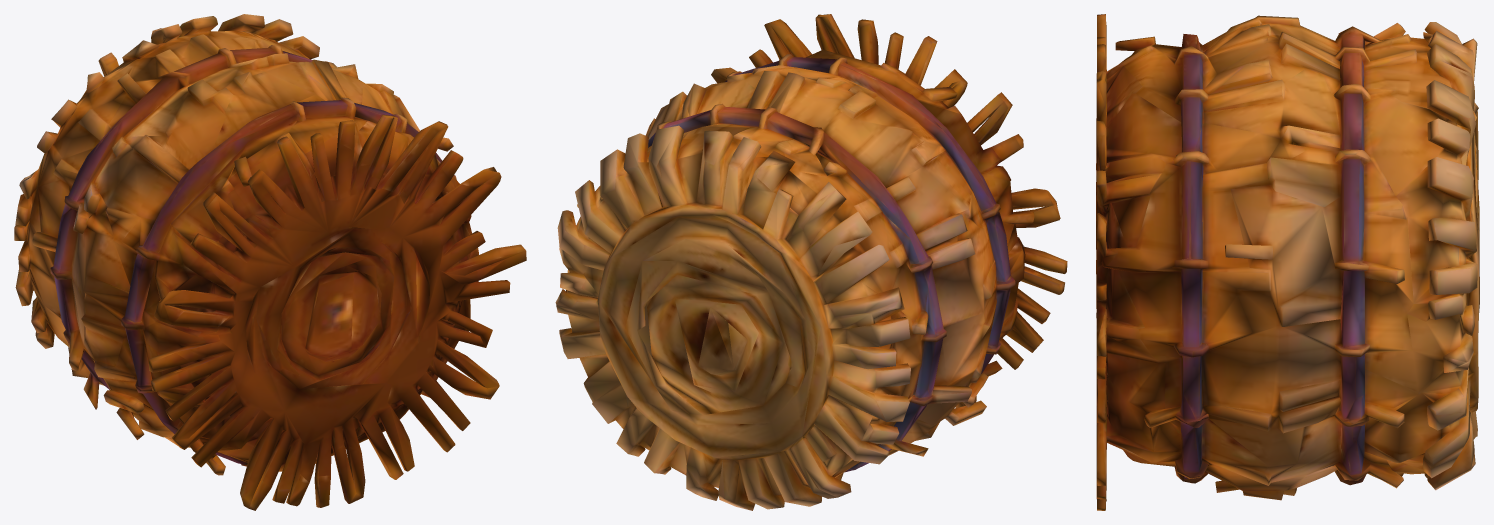
3 renders of one model, left to right at view 1: azimuth 30°, elevation 25°; view 2: azimuth 150°, elevation 25°; view 3: azimuth 270°, elevation 25°, orthographic. The views are drawn at different scales.
Parts seen in each view (by area): view 1: material; view 2: material; view 3: material.
Part boxes in pixels (x1,y1,x2,y2): material: (14, 14, 526, 510); material: (555, 14, 1067, 510); material: (1096, 14, 1479, 510).
Size of the model in its own units: 1 by 0.9937 by 0.7692.
1 material, 1 textured.
